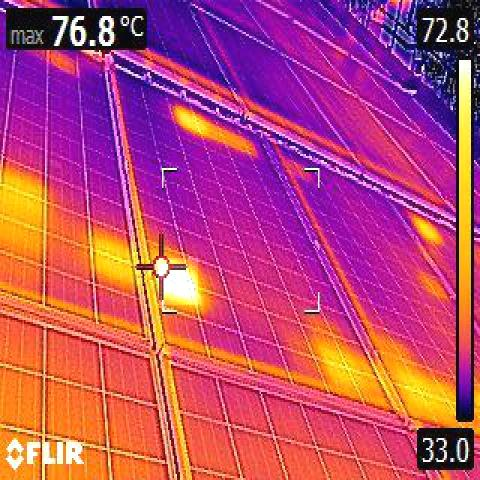fault: (158, 258, 198, 305)
